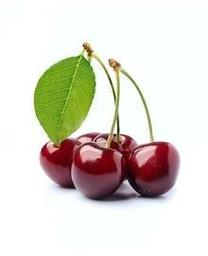cherry: (73, 141, 124, 199), (127, 143, 180, 198), (40, 137, 87, 190)
